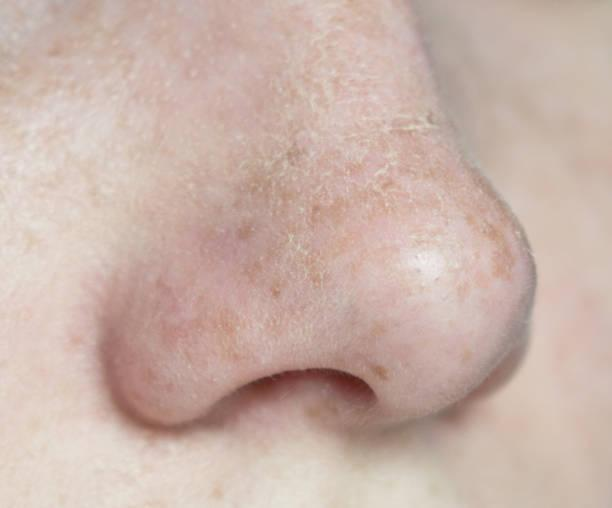Dry-Skin: (165, 14, 534, 391)
